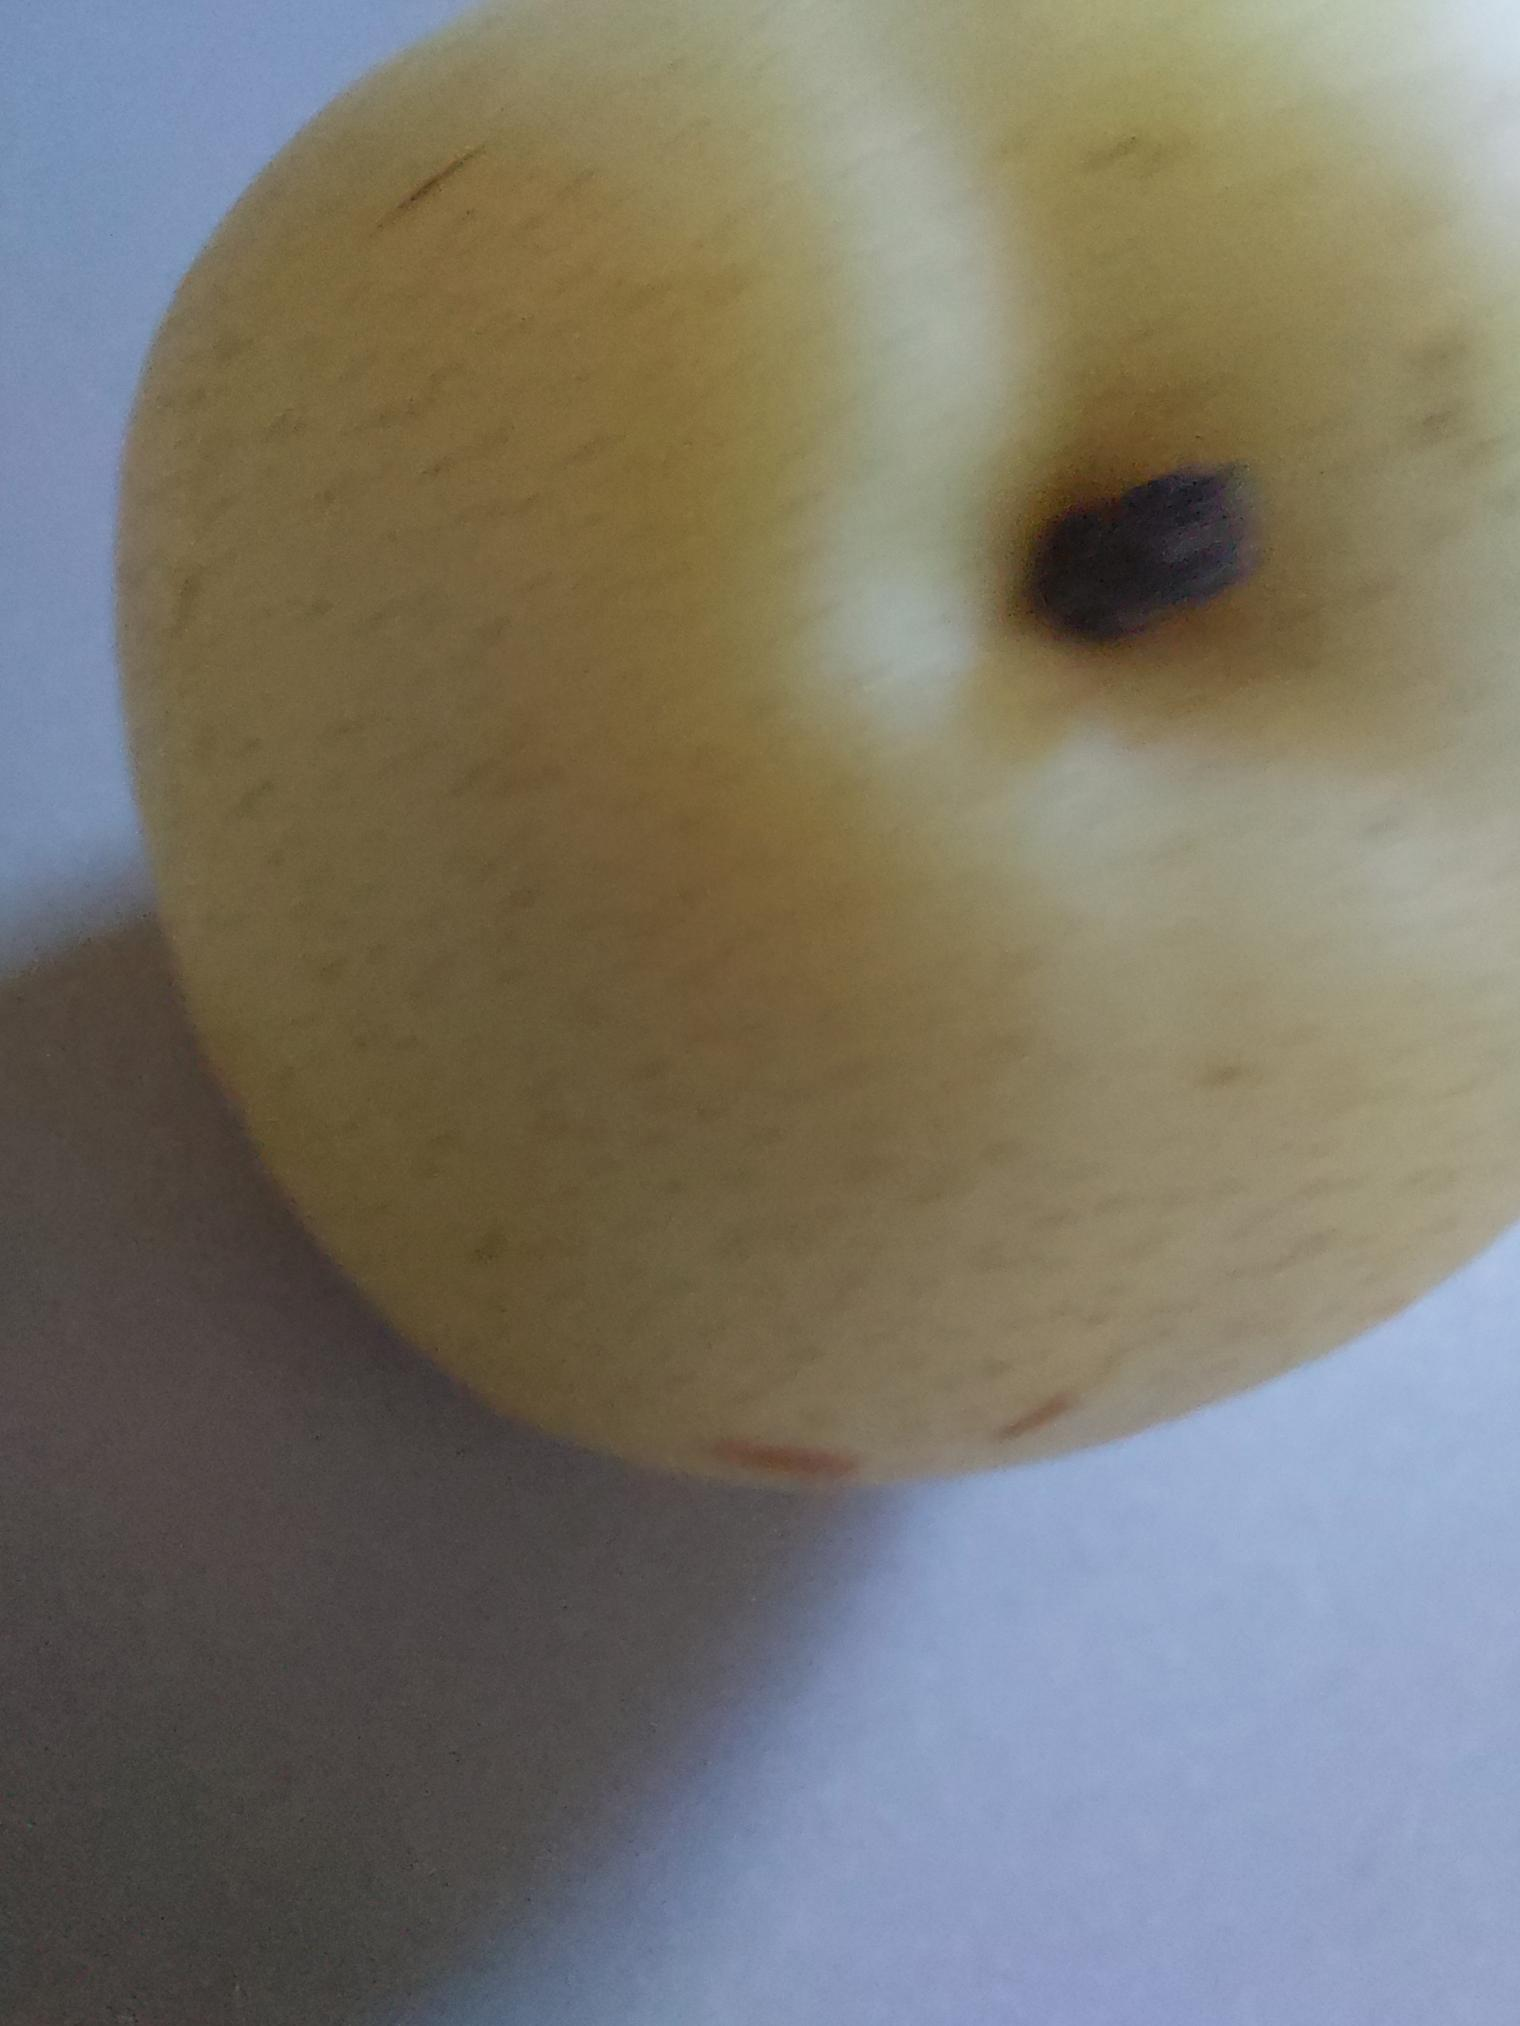Good Pear: (88, 0, 1520, 1506)
